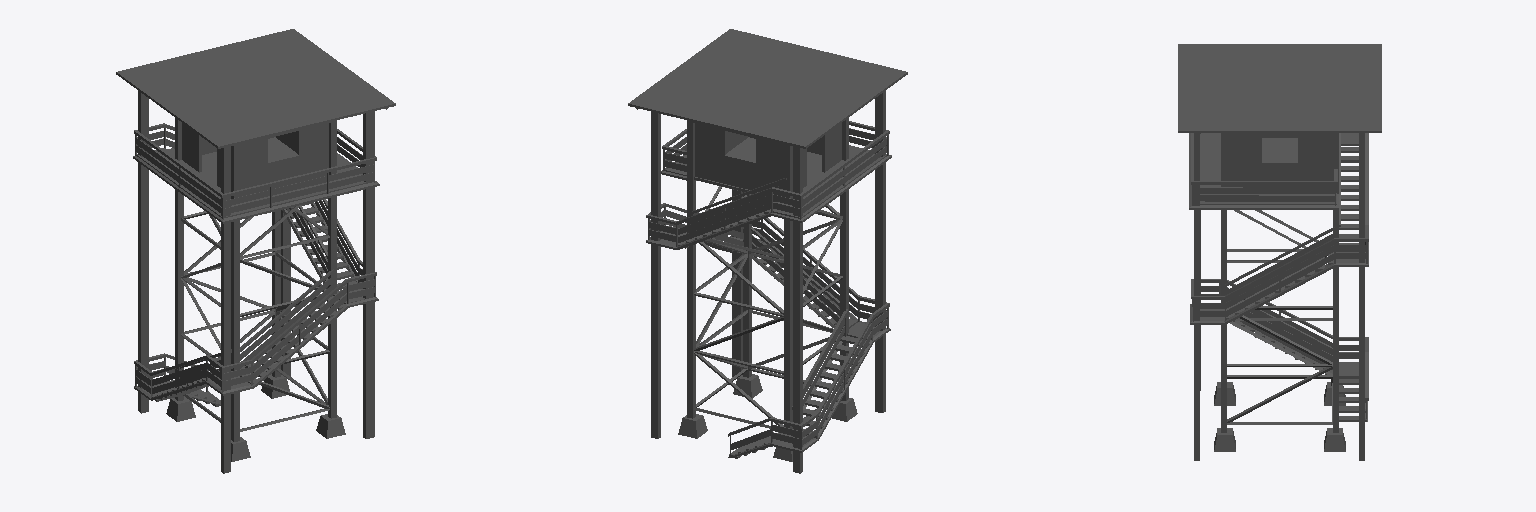
Rendered from watchTowerNew.obj.
The picture shows the model from 3 angles: view 1: azimuth 30°, elevation 25°; view 2: azimuth 150°, elevation 25°; view 3: azimuth 270°, elevation 25°; orthographic projection.
Parts seen in each view (by area): view 1: watchtowerHigh_watchtower; view 2: watchtowerHigh_watchtower; view 3: watchtowerHigh_watchtower.
Boxes of the visible parts, <box> form: watchtowerHigh_watchtower: <box>116,29,395,473</box>; watchtowerHigh_watchtower: <box>628,29,907,473</box>; watchtowerHigh_watchtower: <box>1178,44,1381,460</box>.
Bounding box in the file's own units: 4.22 × 7.65 × 4.22.